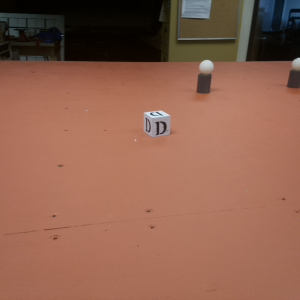blockD: (143, 110, 171, 138)
obstacle: (197, 60, 213, 92), (288, 57, 300, 89)
